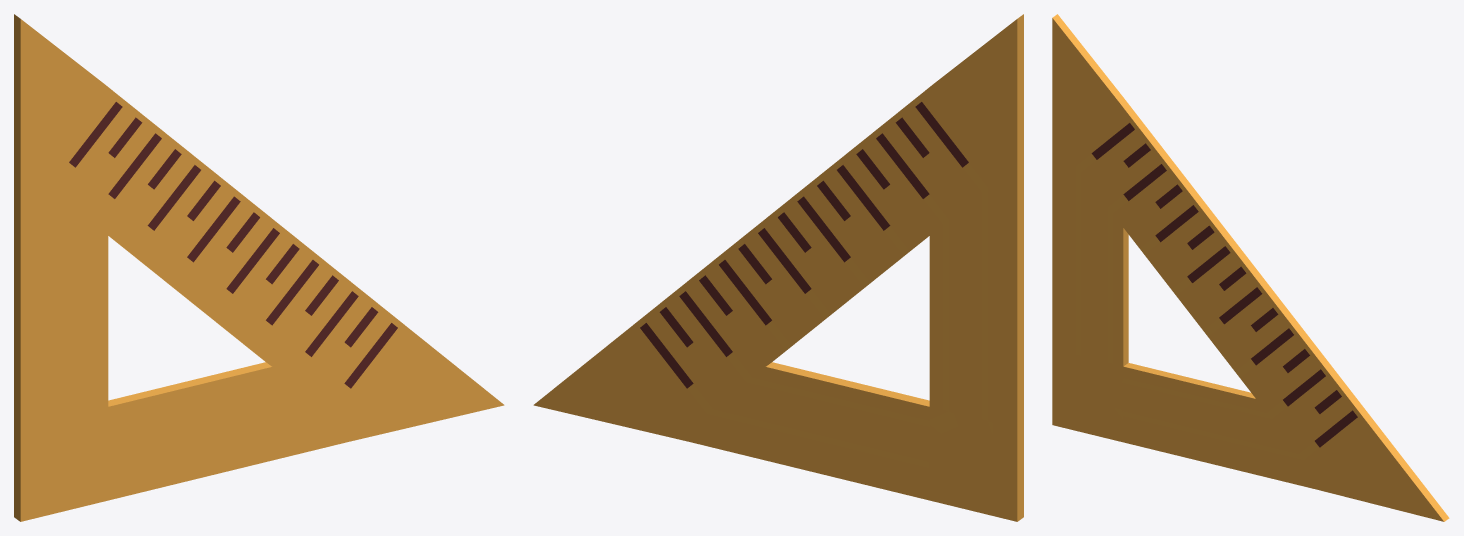
The model's file is triangular_ruler.gltf.
3 views of the same model, side by side, from view 1: azimuth 30°, elevation 25°; view 2: azimuth 150°, elevation 25°; view 3: azimuth 330°, elevation 25° (orthographic). The views are drawn at different scales.
Visible parts, largest first — view 1: Cube.984; view 2: Cube.984; view 3: Cube.984.
Part boxes in pixels (left/top/right/bottom): Cube.984: left=14, top=14, right=504, bottom=521; Cube.984: left=533, top=14, right=1023, bottom=521; Cube.984: left=1052, top=14, right=1449, bottom=521.
Bounding box in the file's own units: 2.12 × 2.11 × 0.0486.
1 material, 1 textured.
